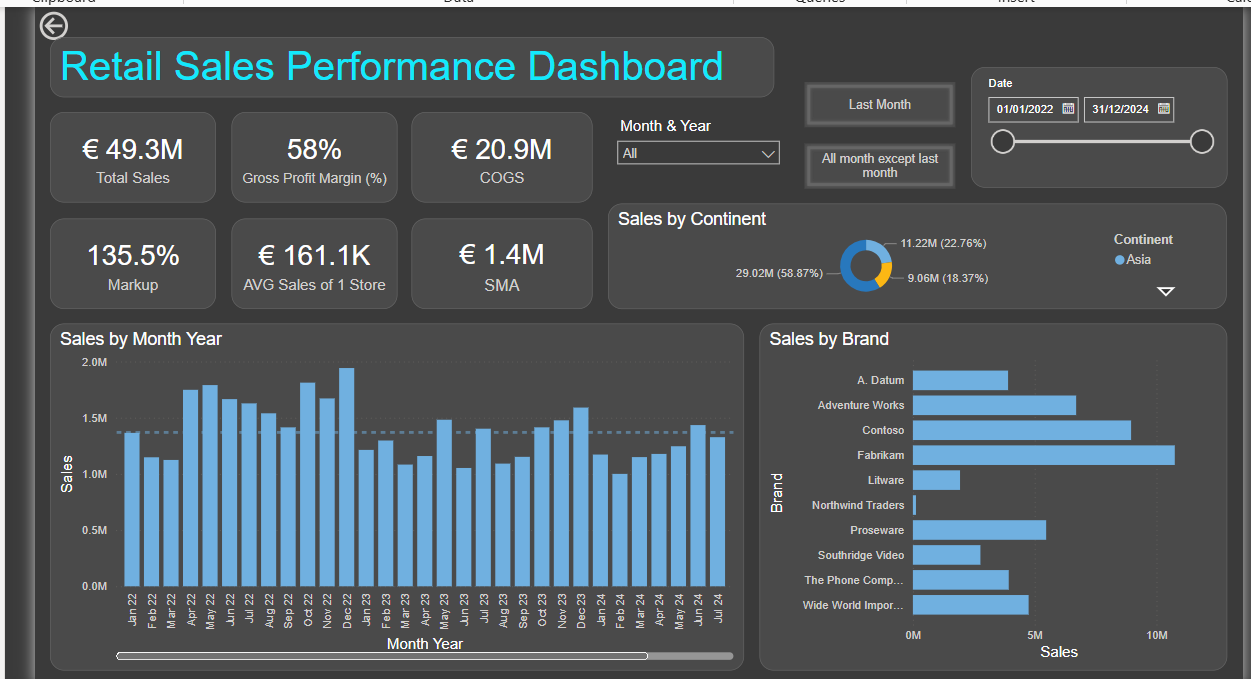

The dashboard page shown, as its layout file describes it:
{"tool":"powerbi","page":{"name":"Page 3","canvas":[1280,720],"ordinal":2},"visuals":[{"type":"card","fields":{"Values":["Sum(Sales.Sum of sales)"]},"box":[16,112,176,96],"z":0},{"type":"card","fields":{"Values":["Sales.Gross Profit Margin (%) 1"]},"box":[208,112,176,96],"z":1000},{"type":"card","fields":{"Values":["Sales.Cost of Goods Sold (COGS)1"]},"box":[400,112,192,96],"z":2000},{"type":"card","fields":{"Values":["Sales.AVG Sales of 1 Store"]},"box":[208,224,176,96],"z":3000},{"type":"card","title":"AvgMonth","fields":{"Values":["Sales.test"]},"box":[400,224,192,96],"z":4000},{"type":"actionButton","box":[0,0,100,40],"z":5000},{"type":"card","title":"AvgMonth","fields":{"Values":["Sales.Markup 1"]},"box":[16,224,176,96],"z":6000},{"type":"clusteredColumnChart","fields":{"Y":["Sum(Sales.Sum of sales)"],"Category":["Calendar.Month Year","Calendar.Year","Calendar.Date"]},"box":[16,336,736,368],"z":8000},{"type":"donutChart","fields":{"Category":["Stores.Continent","Stores.Country"],"Y":["Sum(Sales.Sum of sales)"]},"box":[608,208,656,112],"z":9000},{"type":"clusteredBarChart","fields":{"Category":["Product.Brand","Product.Product category","Stores.Store type"],"Y":["Sum(Sales.Sum of sales)"]},"box":[768,336,496,368],"z":10000},{"type":"slicer","fields":{"Values":["Calendar.Date"]},"box":[992,64,272,128],"z":11000},{"type":"actionButton","box":[816,144,160,48],"z":13000},{"type":"actionButton","title":"Last Month","box":[816,80,160,48],"z":14000},{"type":"slicer","fields":{"Values":["Calendar.Month Year"]},"box":[608,112,192,64],"z":15000},{"type":"textbox","title":"Retail Sales Performance Dashboard","box":[16,32,768,64],"z":16000}]}

Visuals, with their boxes on the page's 1280x720 design canvas (x1, y1, x2, y2). These are canvas units, not pixel positions in the 1251x679 screenshot, which may show the page scaled, cropped or inside an application window:
card - Sum(Sales.Sum of sales): <box>16,112,192,208</box>
card - Sales.Gross Profit Margin (%) 1: <box>208,112,384,208</box>
card - Sales.Cost of Goods Sold (COGS)1: <box>400,112,592,208</box>
card - Sales.AVG Sales of 1 Store: <box>208,224,384,320</box>
"AvgMonth" card: <box>400,224,592,320</box>
actionButton: <box>0,0,100,40</box>
"AvgMonth" card: <box>16,224,192,320</box>
clusteredColumnChart - Sum(Sales.Sum of sales) x Calendar.Month Year: <box>16,336,752,704</box>
donutChart - Stores.Continent x Stores.Country: <box>608,208,1264,320</box>
clusteredBarChart - Product.Brand x Product.Product category: <box>768,336,1264,704</box>
slicer - Calendar.Date: <box>992,64,1264,192</box>
actionButton: <box>816,144,976,192</box>
"Last Month" actionButton: <box>816,80,976,128</box>
slicer - Calendar.Month Year: <box>608,112,800,176</box>
"Retail Sales Performance Dashboard" textbox: <box>16,32,784,96</box>
